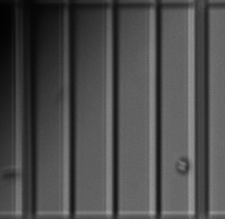Living Cell: (175, 157, 190, 174)
